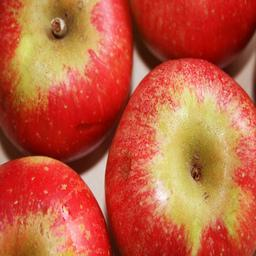apple: (102, 57, 255, 253), (1, 3, 135, 169), (1, 154, 111, 256), (128, 1, 255, 67)
